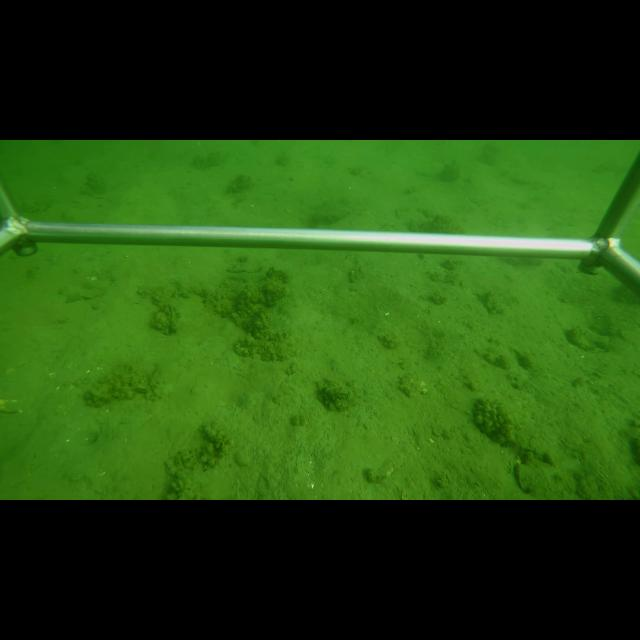Oyster-Closed: (514, 463, 535, 495)
